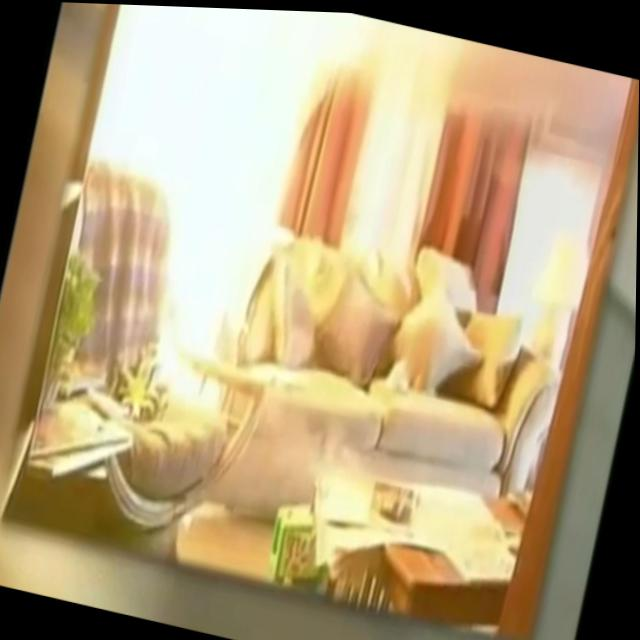fire: (47, 2, 369, 421)
